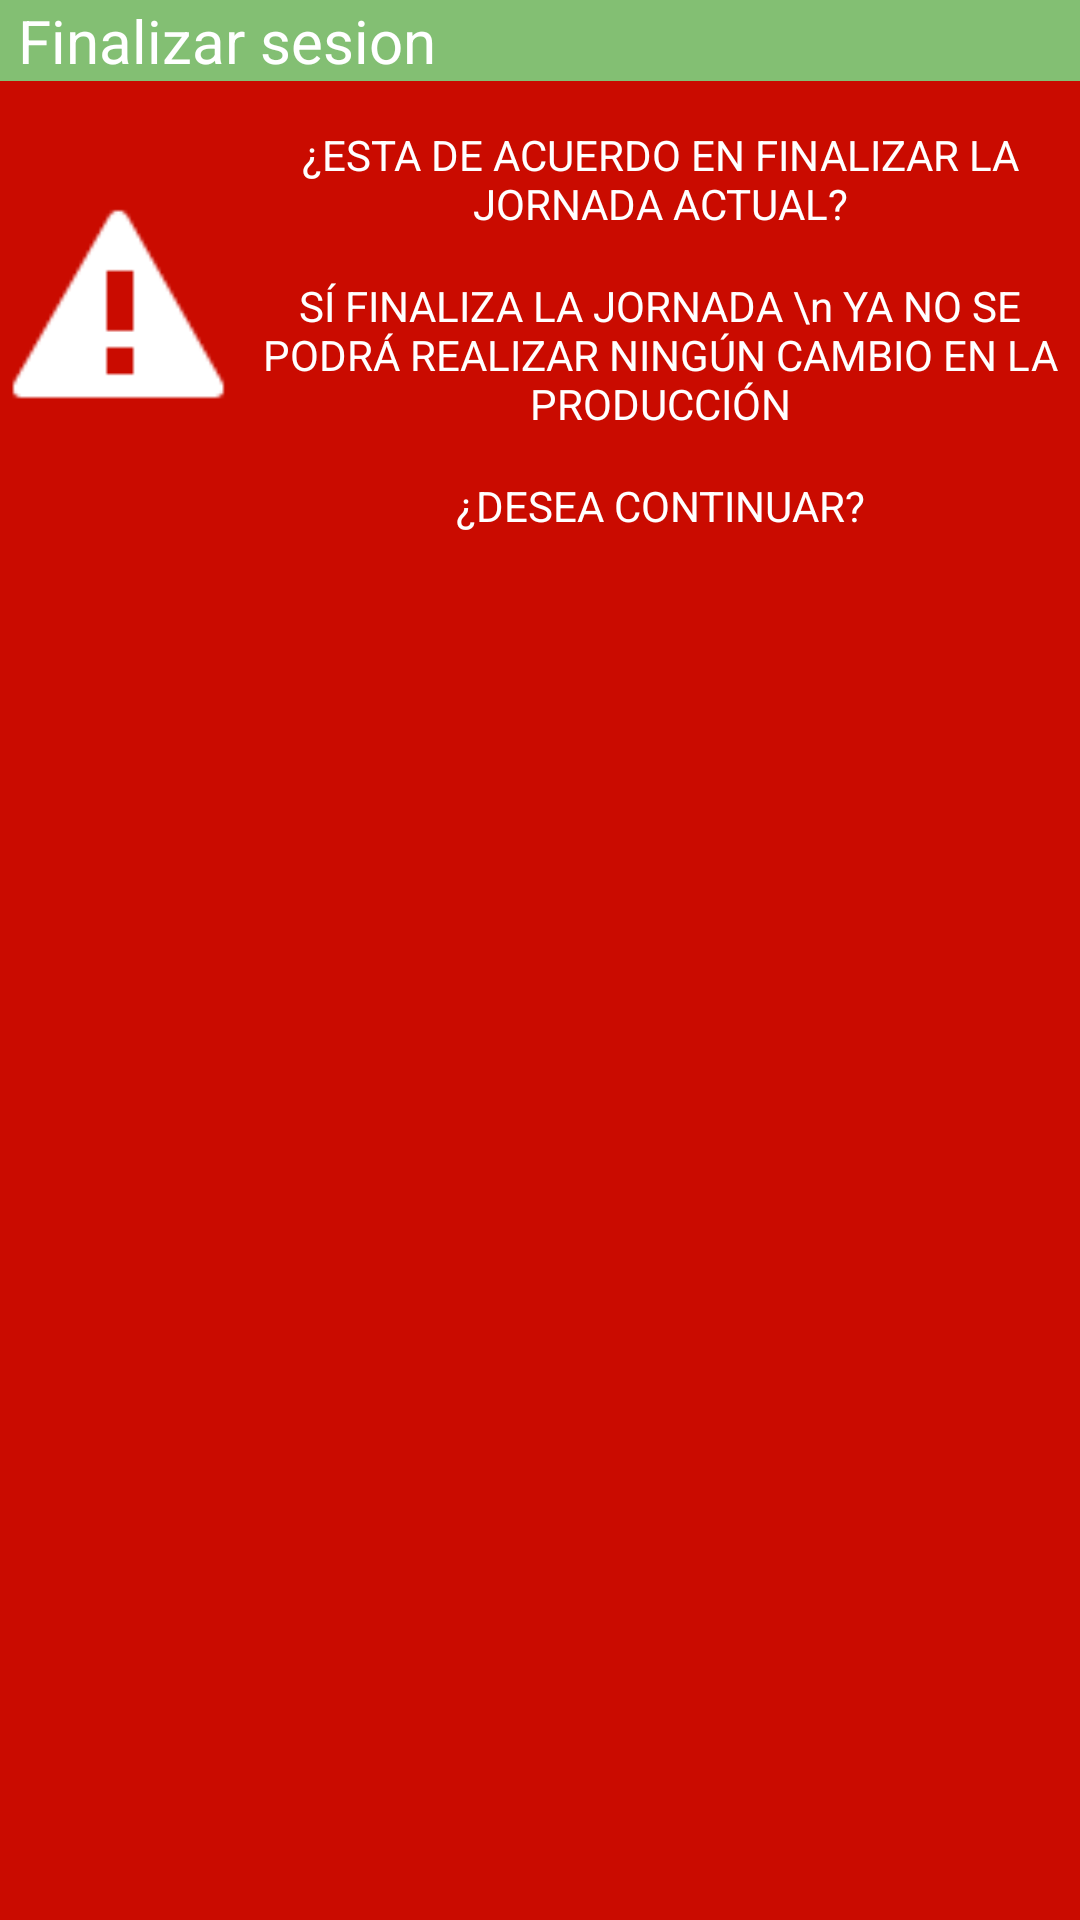

Icon click points for this 1080*1920 phone screenshot, format point (x, y):
warning: point (118, 304)
